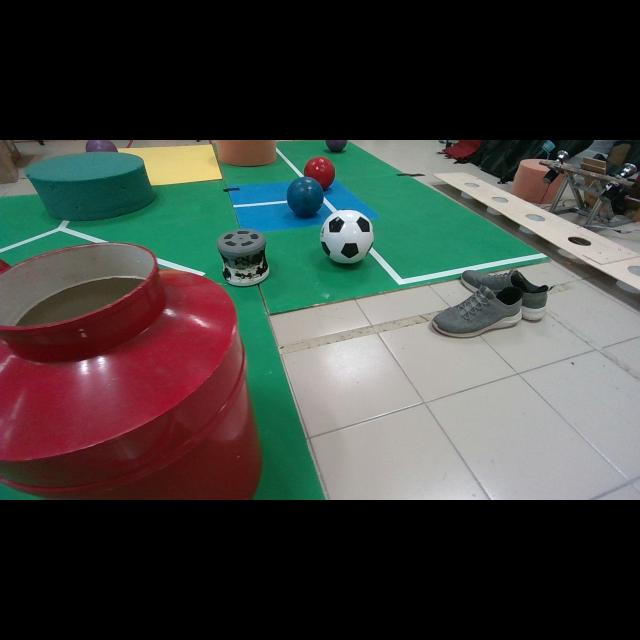B: (286, 176, 324, 218)
P: (85, 140, 118, 152), (325, 140, 347, 152)
R: (304, 156, 335, 190)
